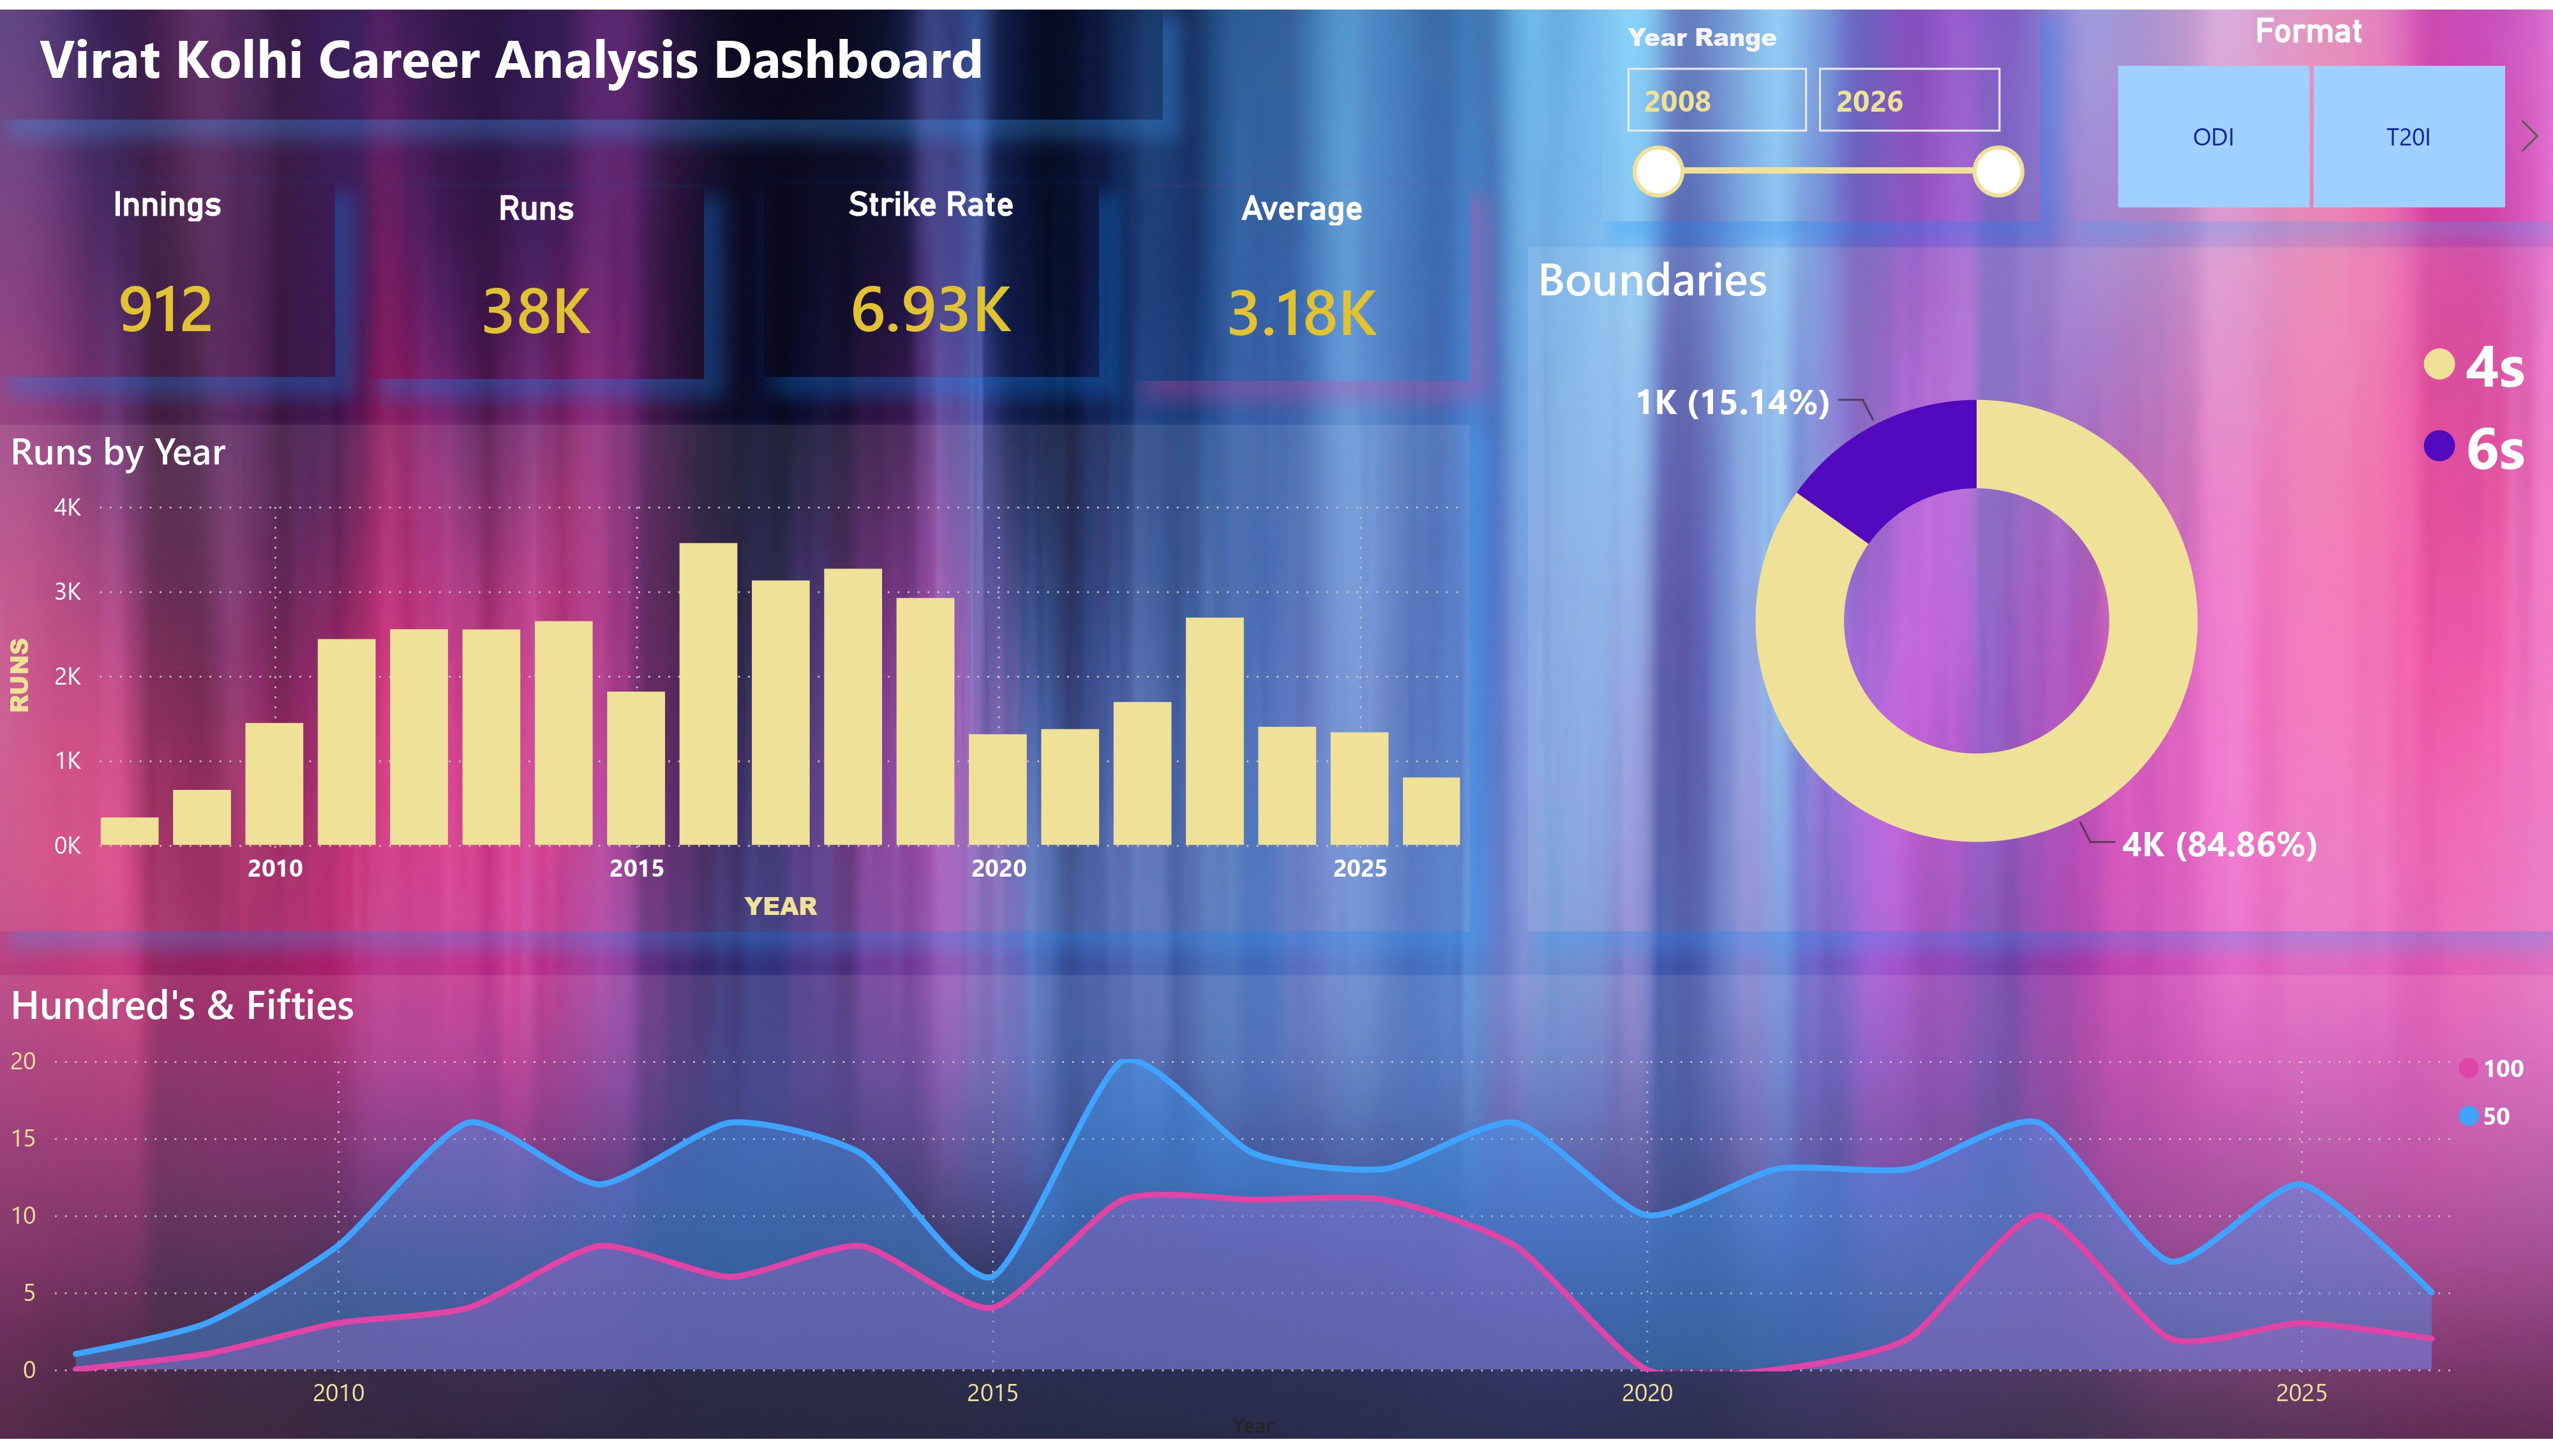

Layout of this report page (visuals, bound fields, positions):
{"tool":"powerbi","page":{"name":"Page 1","canvas":[1280,720],"ordinal":0},"visuals":[{"type":"textbox","box":[0,0,583.2,54.7],"z":0},{"type":"cardVisual","title":"Runs","fields":{"Data":["Sum(pub?output=csv.Runs)"]},"box":[184.8,89,168,95.7],"z":1000},{"type":"cardVisual","title":"Innings","fields":{"Data":["Sum(pub?output=csv.Innings)"]},"box":[0,87.3,168,97.4],"z":2000},{"type":"cardVisual","title":"Strike Rate","fields":{"Data":["Sum(pub?output=csv.SR)"]},"box":[383,87.3,168,97.4],"z":3000},{"type":"cardVisual","title":"Average","fields":{"Data":["Sum(pub?output=csv.Avg)"]},"box":[569.4,89,168,97.4],"z":4000},{"type":"slicer","title":"Format","fields":{"Values":["pub?output=csv.Format"]},"box":[1036.4,0,243.6,105.8],"z":5000},{"type":"slicer","fields":{"Values":["pub?output=csv.Year"]},"box":[802.9,0,220.1,105.8],"z":6000},{"type":"columnChart","title":"Runs by Year","fields":{"Category":["pub?output=csv.Year"],"Y":["Sum(pub?output=csv.Runs)"]},"box":[0,208.3,737.4,253.6],"z":7000},{"type":"donutChart","title":"Boundaries","fields":{"Y":["Sum(pub?output=csv.4s)","Sum(pub?output=csv.6s)"]},"box":[766,119.3,514,342.7],"z":8000},{"type":"areaChart","title":"Hundred''s & Fifties","fields":{"Y":["Sum(pub?output=csv.100)","Sum(pub?output=csv.50)"],"Category":["pub?output=csv.Year"]},"box":[0,483.8,1280.2,236.2],"z":9000}]}

Visuals, with their boxes in screenshot pixels (x1, y1, x2, y2), scaled from the page's 1280x720 canvas onto the 2553x1456 screenshot:
textbox: region(0, 0, 1164, 110)
"Runs" cardVisual: region(369, 180, 703, 373)
"Innings" cardVisual: region(0, 177, 335, 373)
"Strike Rate" cardVisual: region(764, 177, 1099, 373)
"Average" cardVisual: region(1135, 180, 1471, 377)
"Format" slicer: region(2067, 0, 2552, 214)
slicer - pub?output=csv.Year: region(1601, 0, 2040, 214)
"Runs by Year" columnChart: region(0, 421, 1471, 934)
"Boundaries" donutChart: region(1528, 241, 2552, 934)
"Hundred''s & Fifties" areaChart: region(0, 978, 2552, 1455)
